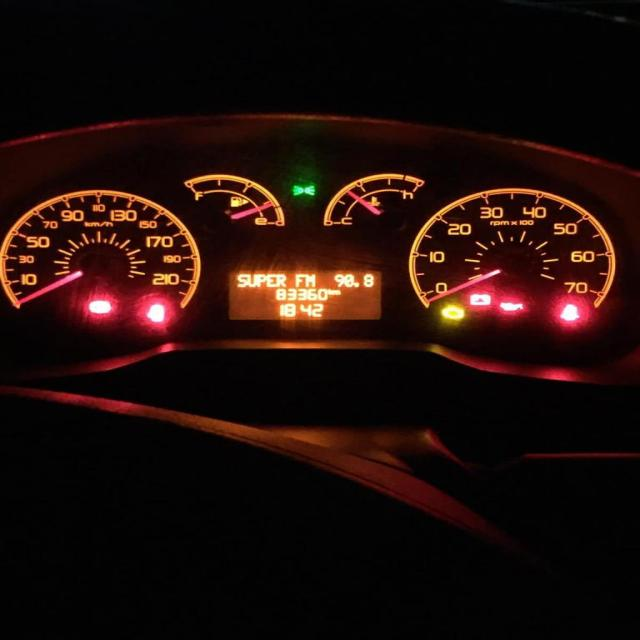odometer: (222, 267, 385, 322)
